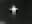person: (10, 5, 21, 17)
